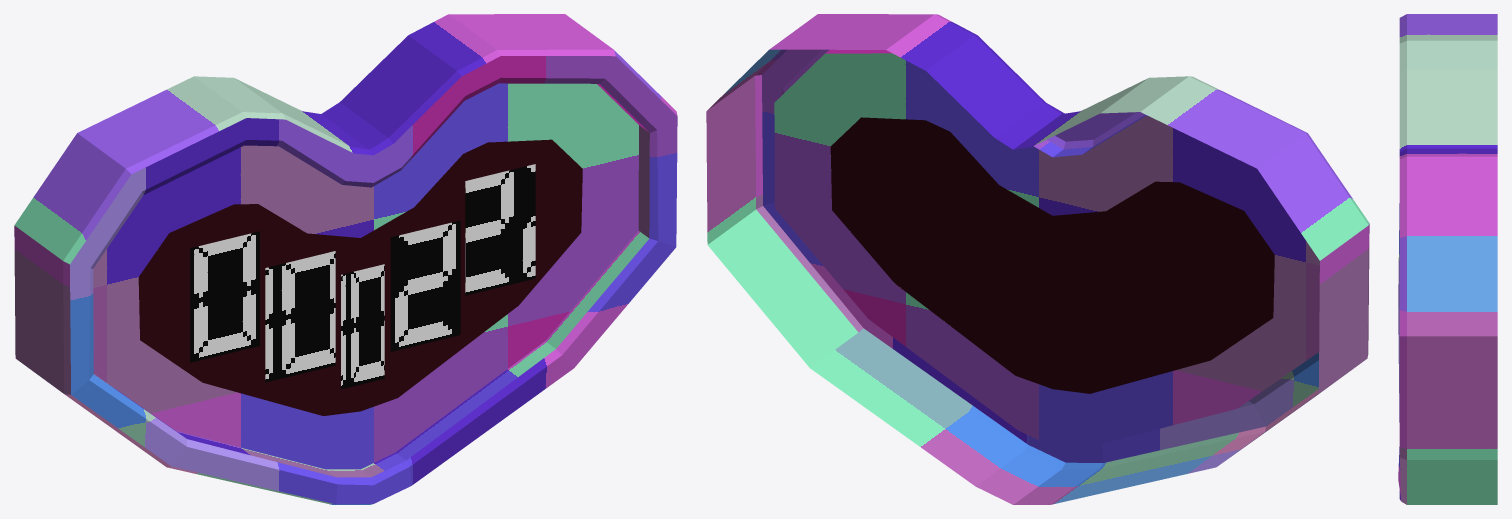
Rendered from rmk_lov_clockD_jwl.dae.
3 renders of one model, left to right at view 1: azimuth 30°, elevation 25°; view 2: azimuth 150°, elevation 25°; view 3: azimuth 270°, elevation 25°, orthographic. The views are drawn at different scales.
Visible parts, largest first — view 1: rmk_lov_clockD_jwl; view 2: rmk_lov_clockD_jwl; view 3: rmk_lov_clockD_jwl.
Boxes of the visible parts, bbox=[...] form: rmk_lov_clockD_jwl: bbox=[14, 14, 677, 504]; rmk_lov_clockD_jwl: bbox=[706, 14, 1369, 504]; rmk_lov_clockD_jwl: bbox=[1398, 14, 1497, 504].
Bounding box in the file's own units: 48.33 × 31.92 × 7.29.
Materials: 4 (4 with a texture image).
